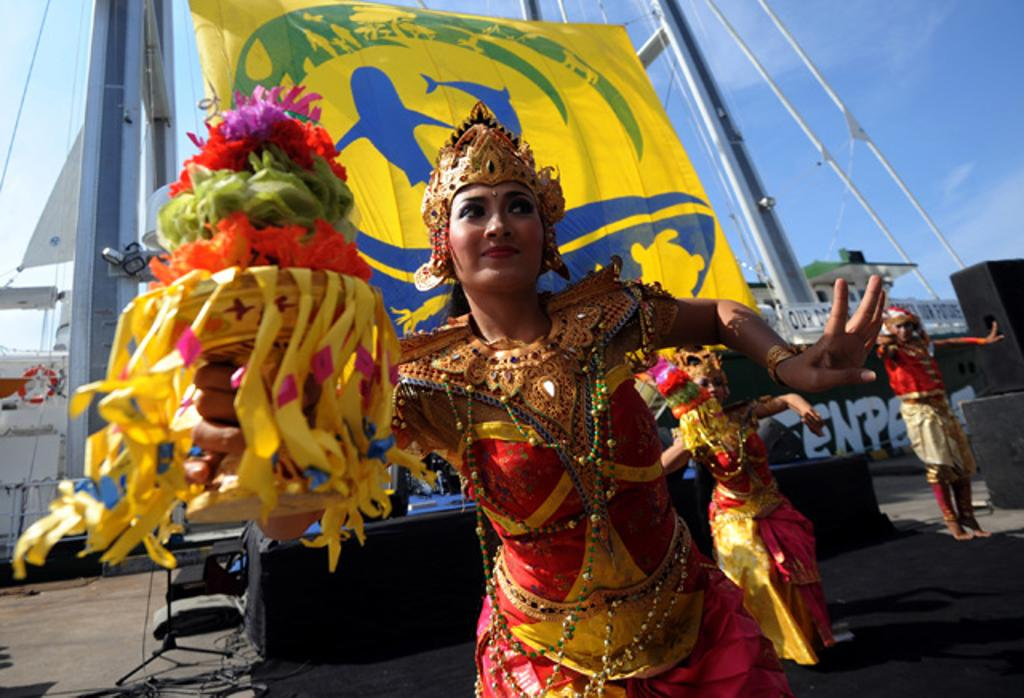face: (452, 189, 544, 286), (692, 377, 724, 406), (892, 321, 912, 341)
